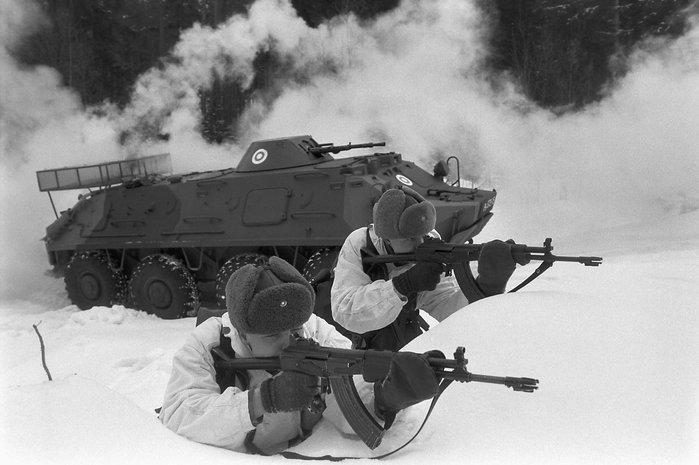MIL_IFV: (37, 132, 497, 324)
